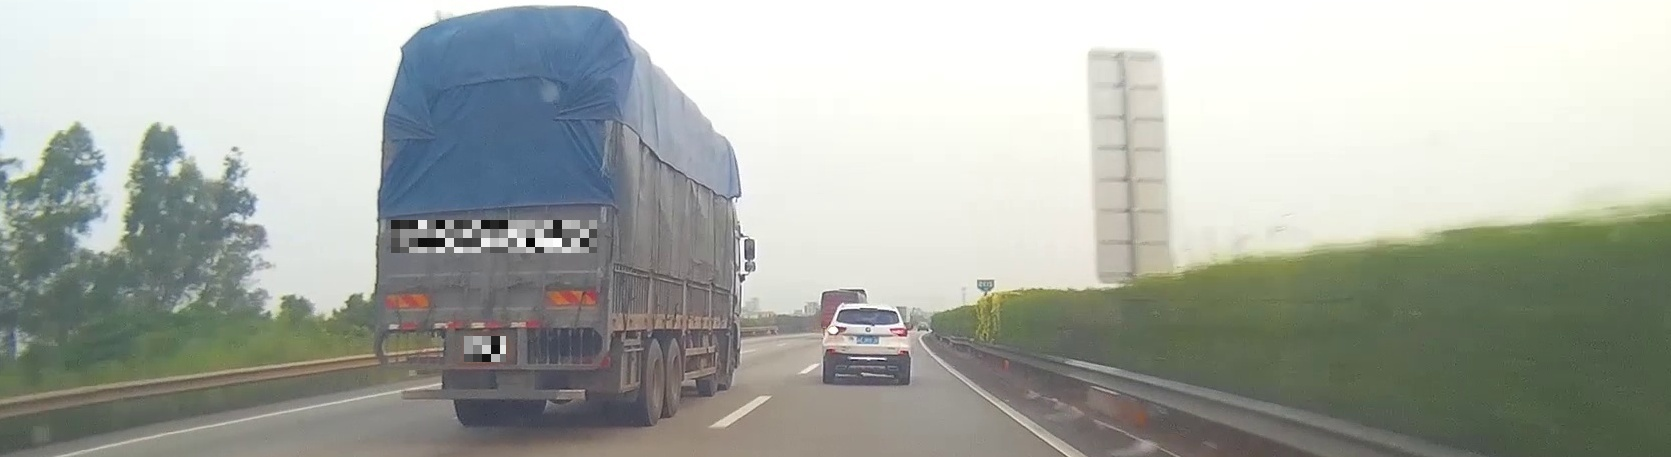L_light: (406, 355, 444, 370), (827, 325, 847, 334)
R_light: (561, 355, 610, 371), (890, 328, 908, 338)
T_light: (469, 274, 513, 287), (860, 307, 877, 311)
day-left: (822, 303, 913, 385)
day-no: (368, 3, 630, 425)
plate_1: (391, 221, 597, 252)
plate_2: (464, 336, 506, 362)
